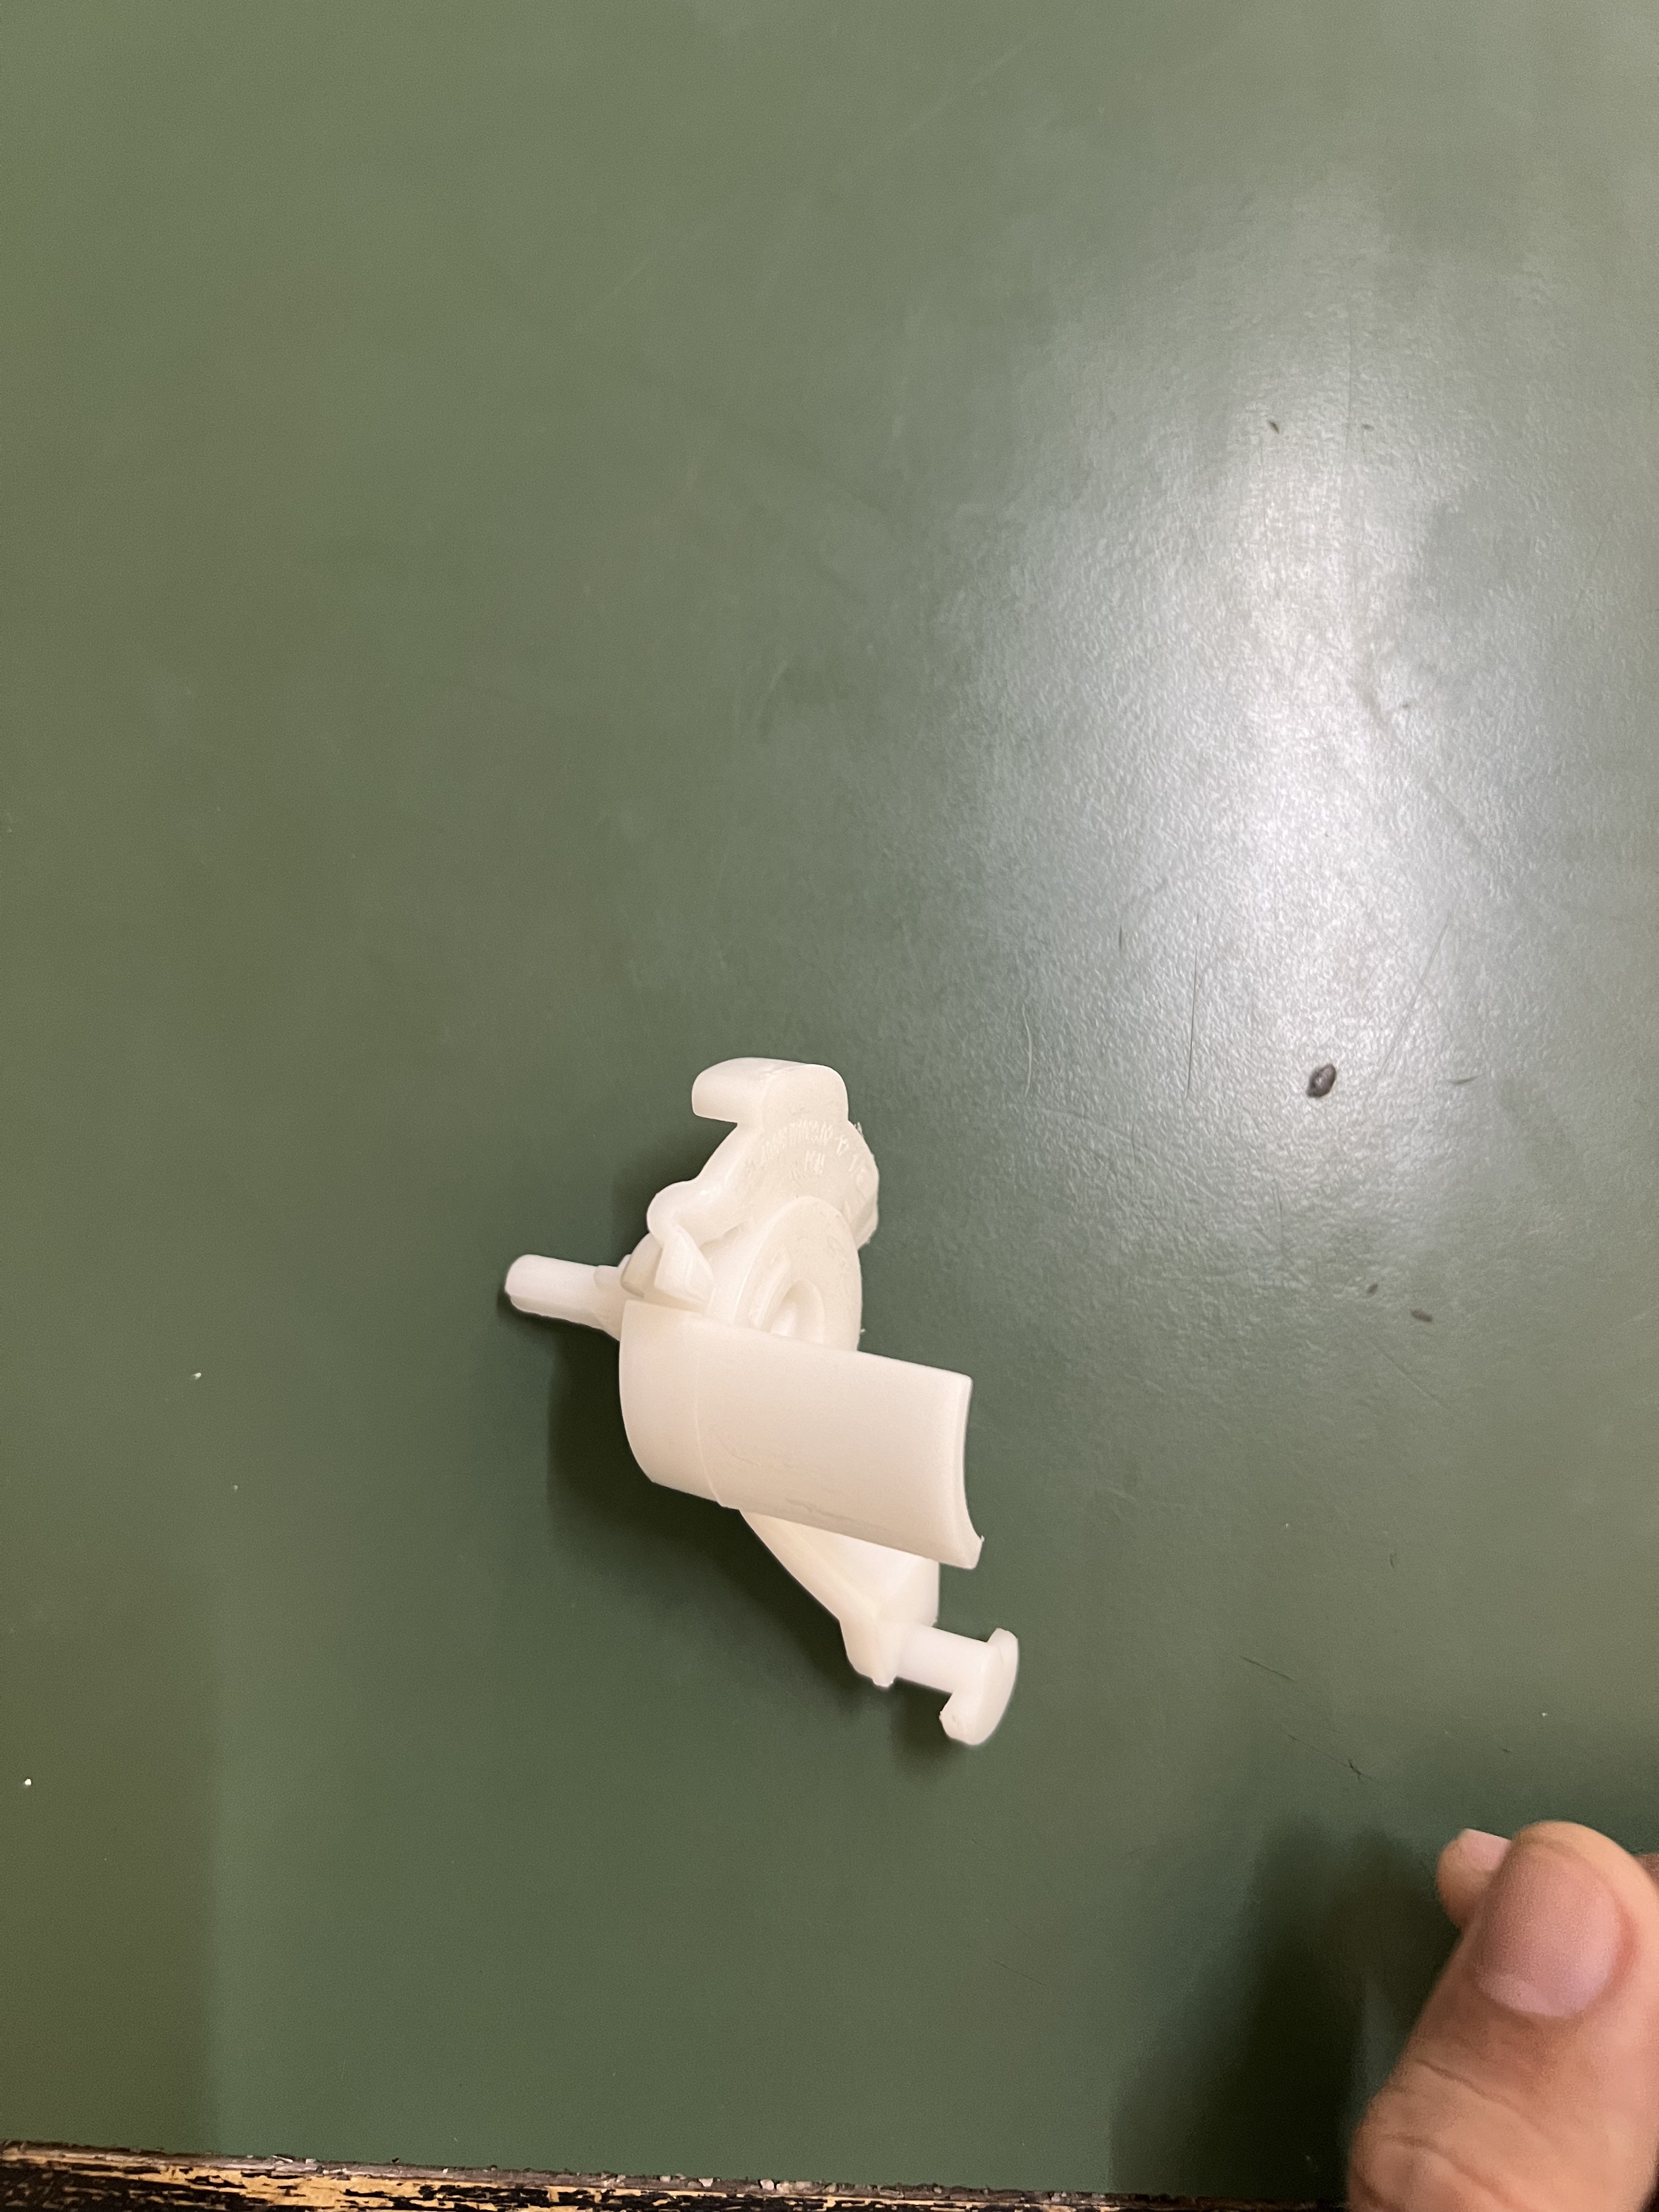drain_lever: (512, 1064, 1072, 1750)
